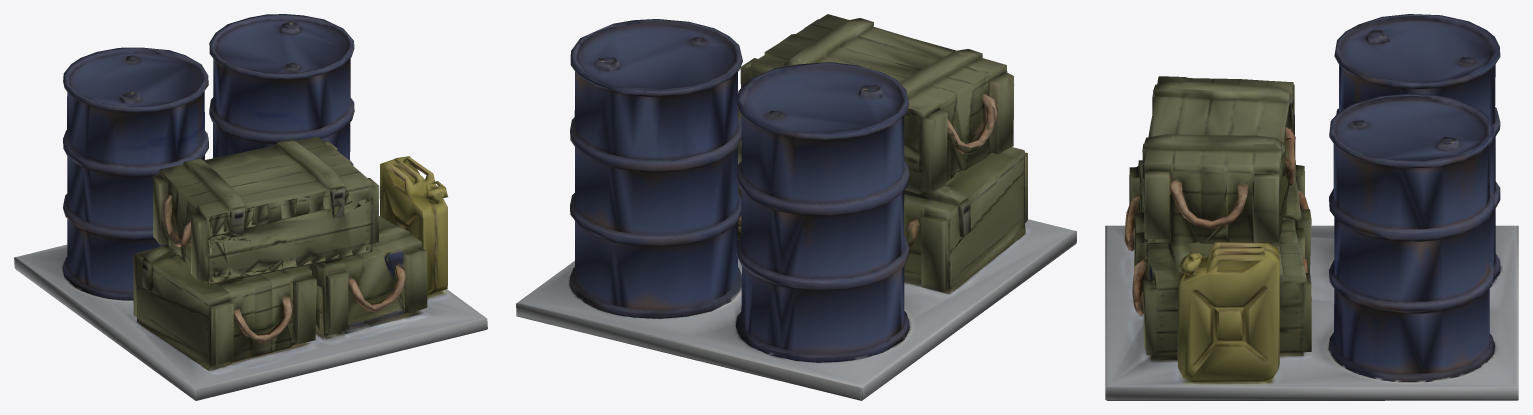
3 renders of one model, left to right at view 1: azimuth 30°, elevation 25°; view 2: azimuth 150°, elevation 25°; view 3: azimuth 270°, elevation 25°, orthographic. The views are drawn at different scales.
Parts seen in each view (by area): view 1: repaired; view 2: repaired; view 3: repaired.
Boxes of the visible parts, x1,y1,x2,y2 form: repaired: (14,14,487,400); repaired: (516,14,1076,400); repaired: (1105,14,1518,400).
Bounding box in the file's own units: 0.9299 × 0.6285 × 0.9994.
Materials: 1 (1 with a texture image).
